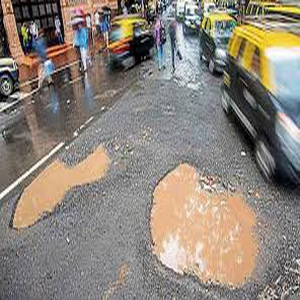pothole: (149, 159, 265, 293), (8, 140, 117, 232)
